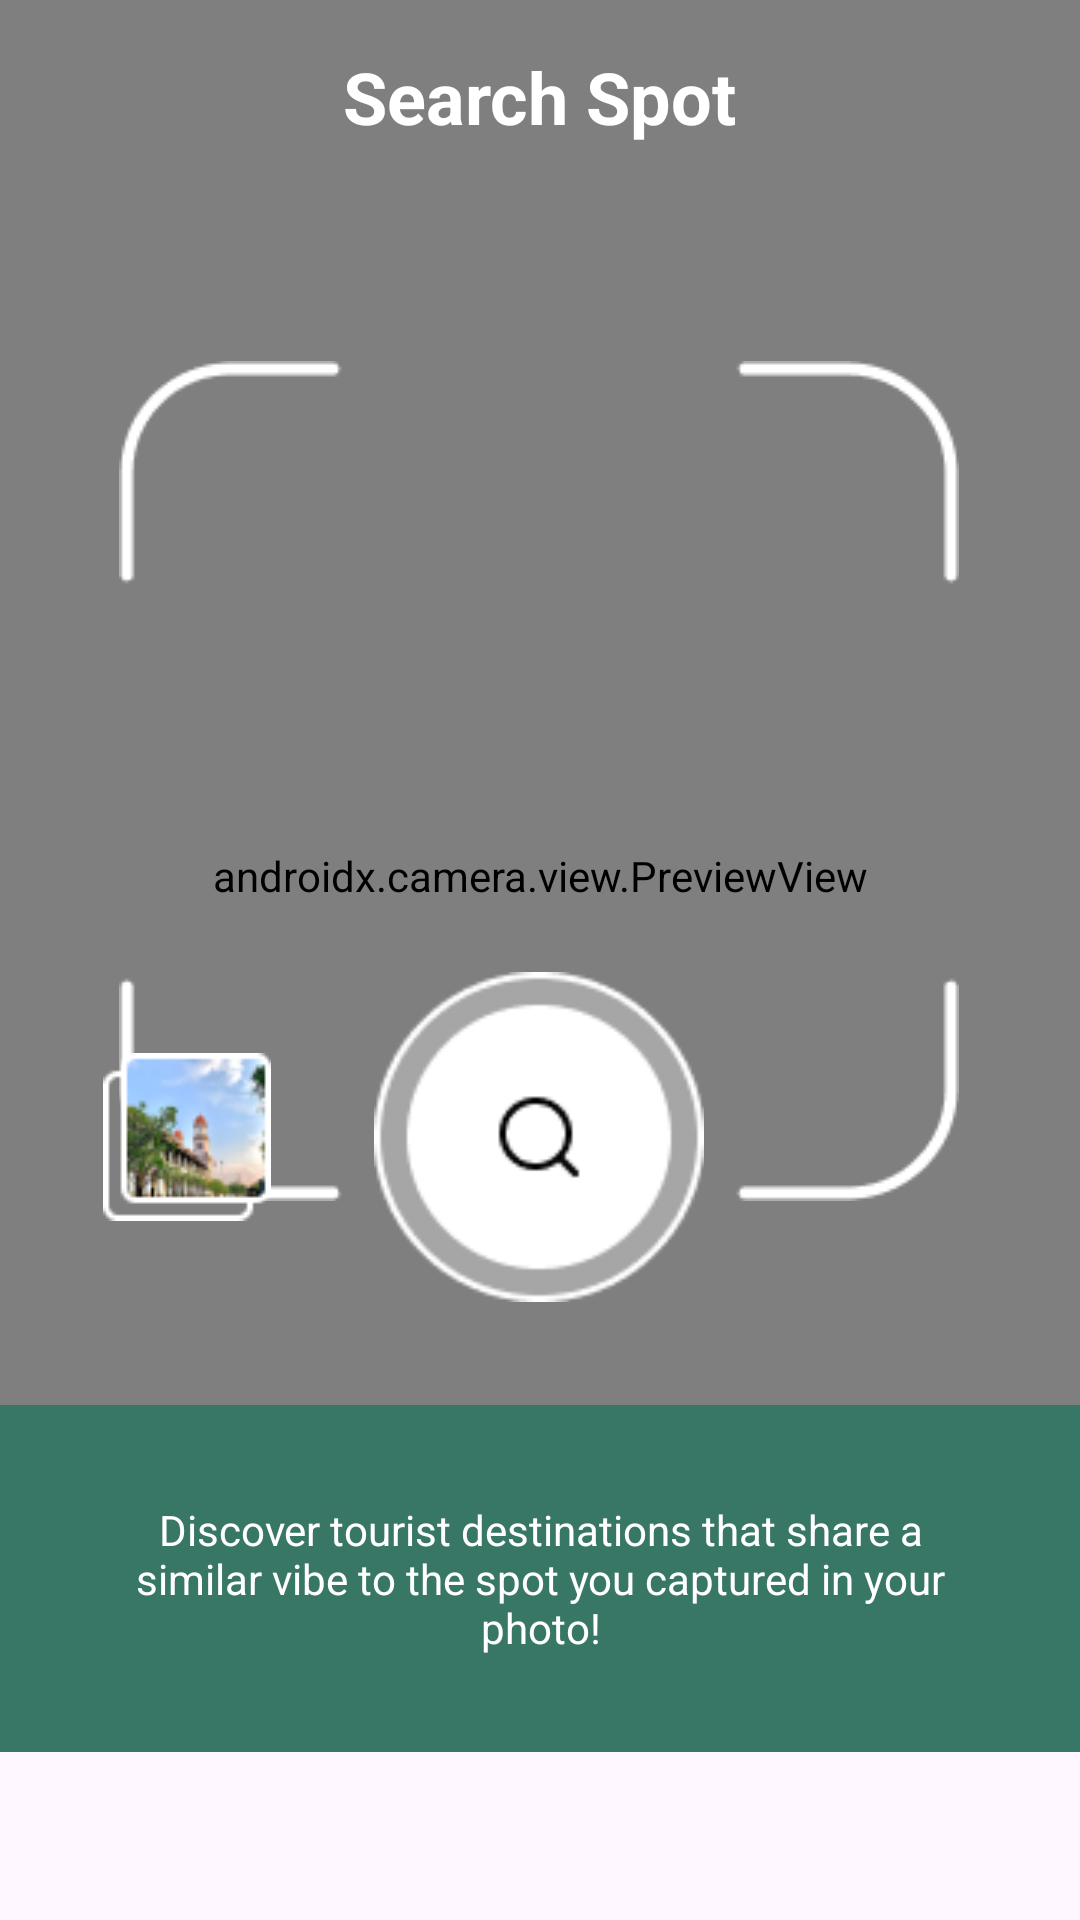

Where icons sit on this 1080px×1920px app screen, as region(x1, y1, x2, y2):
gallery: region(103, 1053, 271, 1221)
